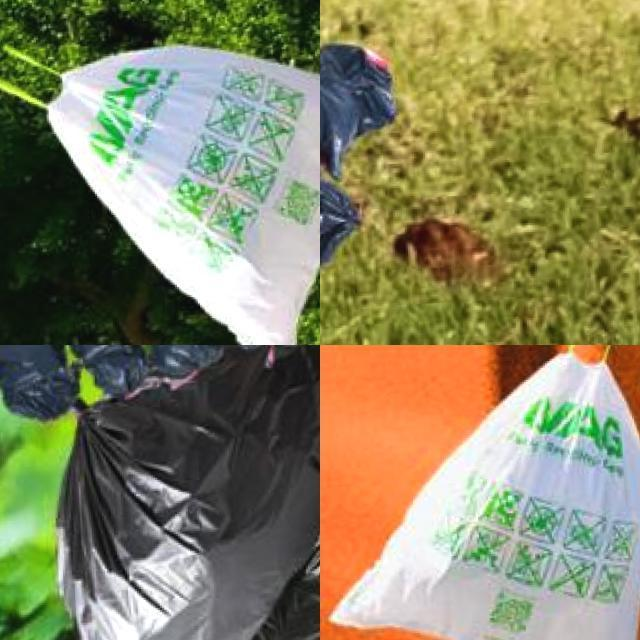waste: (320, 345, 640, 640), (50, 27, 320, 345), (38, 345, 320, 640), (192, 435, 320, 640), (320, 49, 402, 176), (320, 190, 378, 310), (0, 345, 78, 423), (63, 345, 145, 401), (131, 345, 221, 383)
